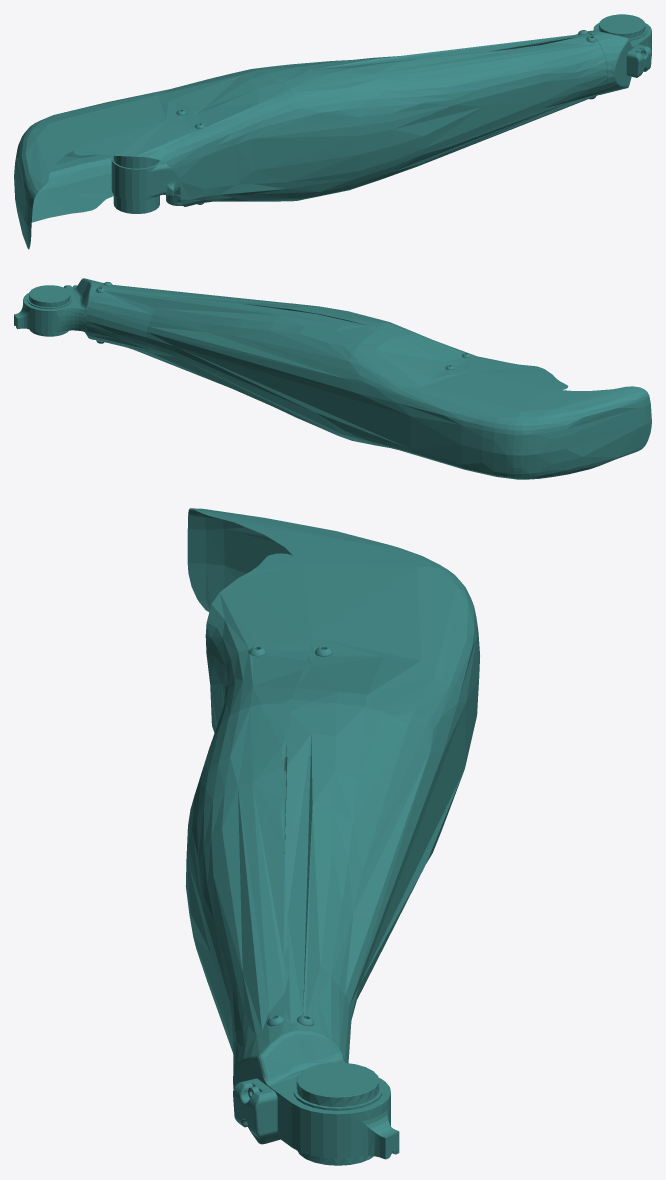
Rendered from shin.obj.
3 renders of one model, top to bottom at view 1: azimuth 30°, elevation 25°; view 2: azimuth 150°, elevation 25°; view 3: azimuth 270°, elevation 25°, orthographic. The views are drawn at different scales.
Parts seen in each view (by area): view 1: shin; view 2: shin; view 3: shin.
Boxes of the visible parts, x1=… form: shin: x1=14, y1=14, x2=651, y2=249; shin: x1=14, y1=278, x2=651, y2=479; shin: x1=185, y1=508, x2=479, y2=1165.
Bounding box in the file's own units: 0.5749 × 0.0939 × 0.1245.
Materials: 1 (1 with a texture image).
